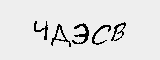В: (109, 19, 126, 44)
Д: (48, 23, 73, 50)
С: (93, 22, 112, 47)
Ч: (29, 19, 49, 44)
Э: (71, 22, 90, 46)
